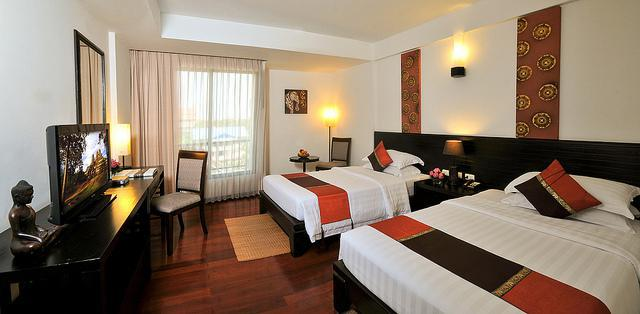tv: (39, 110, 115, 227)
